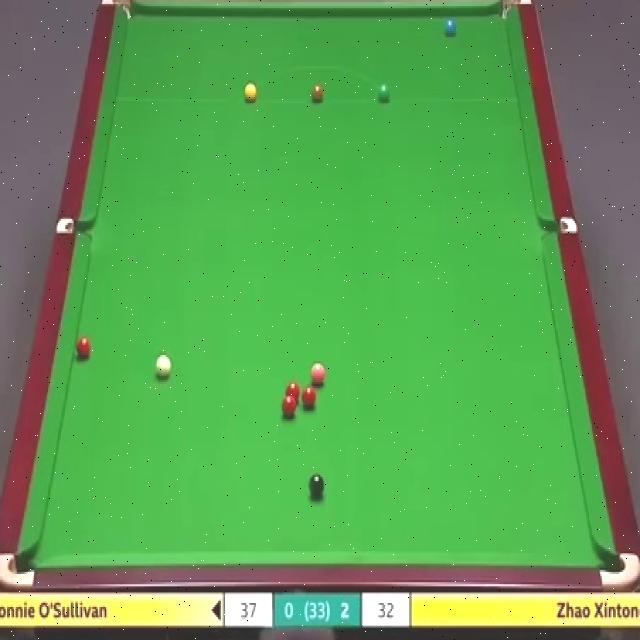black-ball: (308, 470, 325, 500)
blue-ball: (444, 15, 457, 36)
brown-ball: (311, 85, 324, 102)
green-ball: (377, 81, 391, 105)
pink-ball: (310, 361, 326, 386)
red-ball: (282, 395, 298, 417), (286, 380, 300, 405), (76, 336, 91, 359), (303, 387, 318, 408)
white-ball: (156, 356, 173, 384)
yellow-ball: (243, 82, 258, 103)
